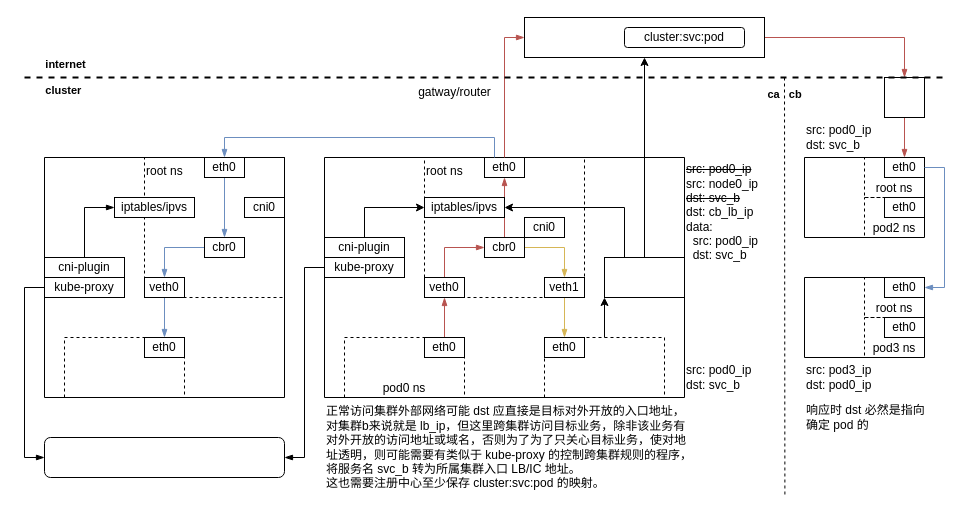
This 970x516 diagram has some shape labels left out. Each missing label, with the box of its shape:
LB/IC: (884, 76, 924, 118)
node0: (324, 156, 684, 398)
node1: (44, 156, 284, 398)
node2: (804, 156, 924, 238)
node3: (804, 276, 924, 358)
pod ns: (544, 336, 664, 398)
pod1 ns: (64, 336, 184, 398)
proxy/register...: (524, 16, 764, 58)
svc: (44, 436, 284, 478)
跨集群 规则控制: (604, 256, 684, 298)
